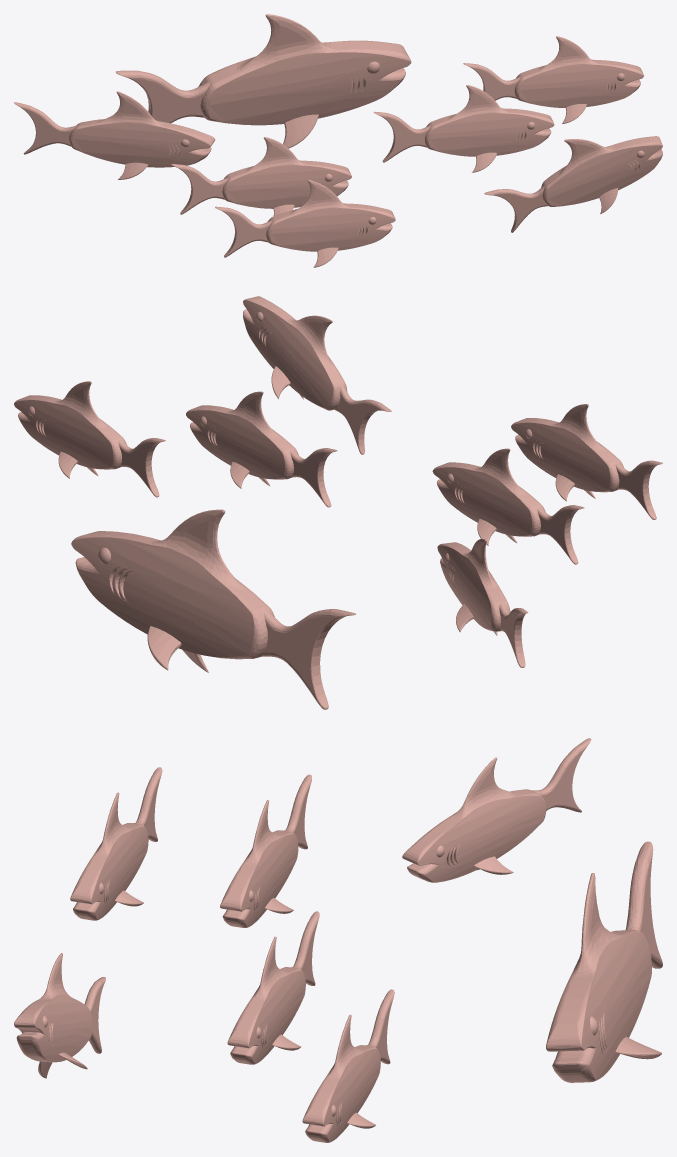
File: OrangeFishes.glb
3 views of the same model, one above another, from view 1: azimuth 30°, elevation 25°; view 2: azimuth 150°, elevation 25°; view 3: azimuth 270°, elevation 25° (orthographic). The views are drawn at different scales.
Parts seen in each view (by area): view 1: Mesh_Mesh_head_geo.001_lambert2SG.001; view 2: Mesh_Mesh_head_geo.001_lambert2SG.001; view 3: Mesh_Mesh_head_geo.001_lambert2SG.001.
Boxes of the visible parts, box(x1,y1,x2,y2) form: Mesh_Mesh_head_geo.001_lambert2SG.001: box(14, 14, 662, 267); Mesh_Mesh_head_geo.001_lambert2SG.001: box(14, 296, 662, 709); Mesh_Mesh_head_geo.001_lambert2SG.001: box(14, 738, 662, 1142).
Size of the model in its own units: 167 by 42.17 by 130.
